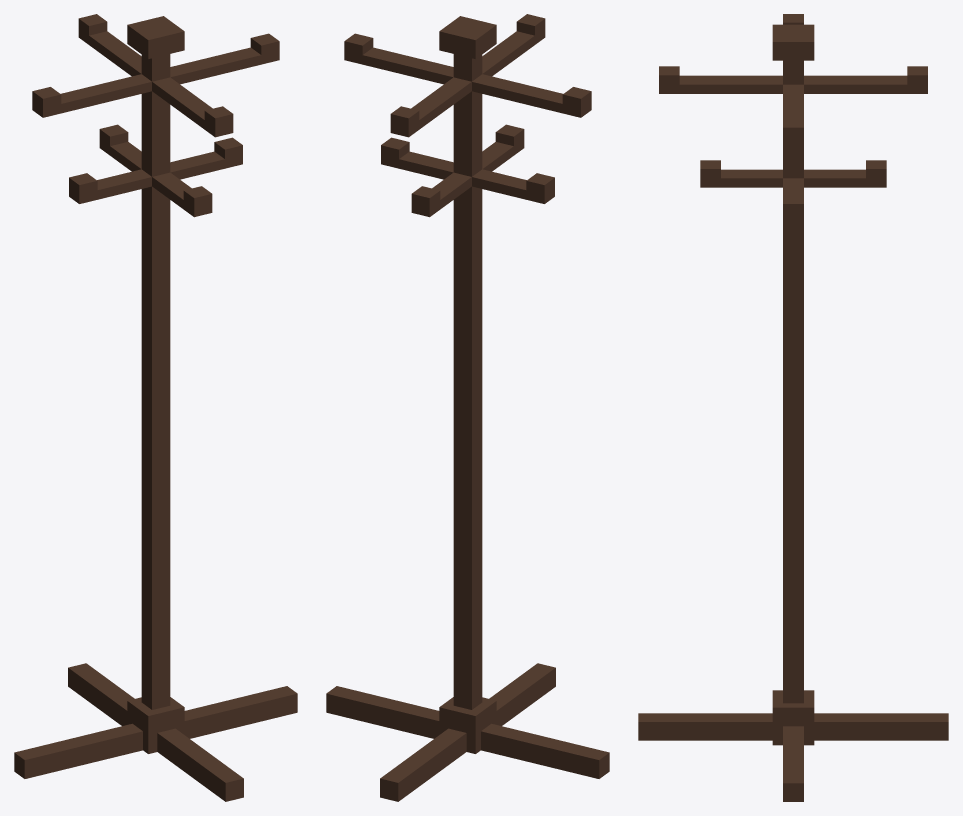
Rendered from coat_rack_01.dae.
3 renders of one model, left to right at view 1: azimuth 30°, elevation 25°; view 2: azimuth 150°, elevation 25°; view 3: azimuth 270°, elevation 25°, orthographic.
Visible parts, largest first — view 1: Untitled; view 2: Untitled; view 3: Untitled.
Boxes of the visible parts, <box> form: Untitled: <box>14,14,297,801</box>; Untitled: <box>326,14,609,801</box>; Untitled: <box>638,14,948,801</box>.
Size of the model in its own units: 0.9 by 0.9 by 2.25.
Materials: 1 (1 with a texture image).
